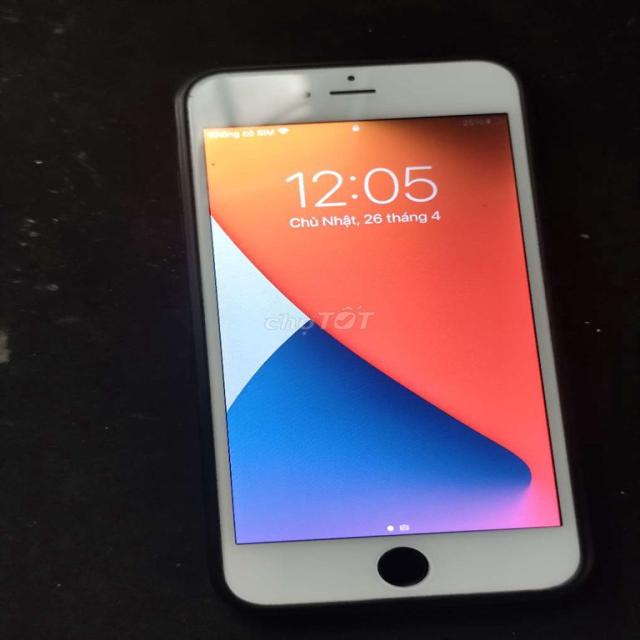scratch: (170, 55, 620, 615)
screen_defect: (358, 530, 442, 594)
